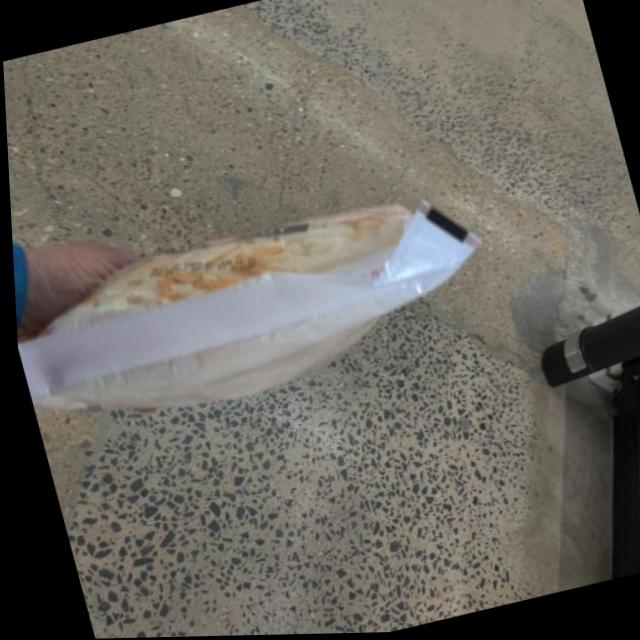Cheese: (8, 190, 502, 438)
